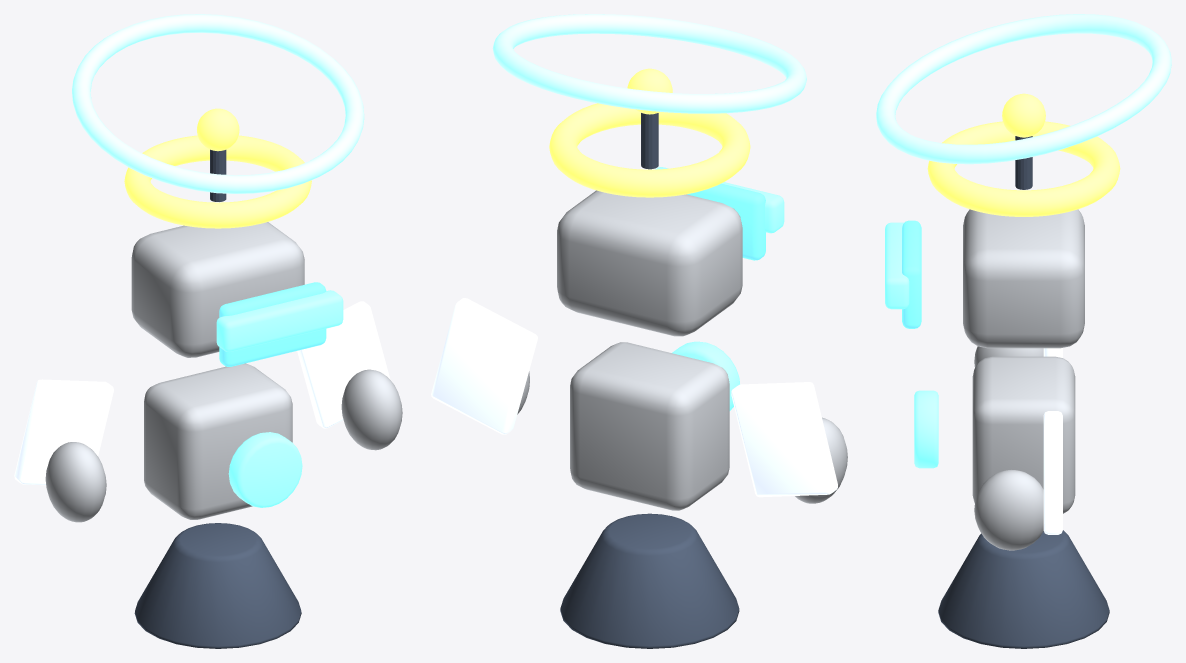
File: zen_robot.glb
3 renders of one model, left to right at view 1: azimuth 30°, elevation 25°; view 2: azimuth 150°, elevation 25°; view 3: azimuth 270°, elevation 25°, orthographic. The views are drawn at different scales.
Parts seen in each view (by area): view 1: Zen_Torso, Zen_Head, Zen_Thruster, Upgrade_halo_neural, Upgrade_ears_plasma, Upgrade_crown_radar, Upgrade_visor_cyber, Zen_ChestCore, Zen_Hand_R, Zen_Hand_L, Zen_Visor, Zen_AntennaOrb (+1 smaller); view 2: Zen_Torso, Zen_Head, Upgrade_ears_plasma, Zen_Thruster, Upgrade_halo_neural, Upgrade_crown_radar, Zen_Visor, Zen_ChestCore, Zen_Hand_L, Zen_AntennaStalk, Zen_AntennaOrb, Upgrade_visor_cyber; view 3: Zen_Head, Zen_Thruster, Upgrade_halo_neural, Zen_Torso, Upgrade_crown_radar, Zen_Hand_R, Upgrade_ears_plasma, Zen_ChestCore, Zen_Visor, Upgrade_visor_cyber, Zen_AntennaOrb, Zen_Hand_L (+1 smaller).
Part boxes in pixels (box(x1,y1,x2,y2)): Zen_Torso: box(144, 363, 292, 519); Zen_Head: box(131, 222, 304, 357); Zen_Thruster: box(134, 523, 301, 648); Upgrade_halo_neural: box(72, 14, 364, 193); Upgrade_ears_plasma: box(14, 301, 390, 485); Upgrade_crown_radar: box(124, 135, 311, 228); Upgrade_visor_cyber: box(216, 290, 343, 351); Zen_ChestCore: box(228, 432, 302, 507); Zen_Hand_R: box(341, 369, 402, 450); Zen_Hand_L: box(45, 442, 106, 522); Zen_Visor: box(219, 282, 326, 366); Zen_AntennaOrb: box(197, 108, 239, 151); Zen_Torso: box(570, 342, 729, 510); Zen_Head: box(557, 190, 742, 336); Upgrade_ears_plasma: box(431, 298, 837, 497); Zen_Thruster: box(560, 513, 739, 648); Upgrade_halo_neural: box(492, 14, 806, 113); Upgrade_crown_radar: box(549, 103, 750, 197); Zen_Visor: box(687, 183, 765, 260); Zen_ChestCore: box(672, 341, 739, 410); Zen_Hand_L: box(795, 417, 847, 503); Zen_AntennaStalk: box(641, 113, 658, 169); Zen_AntennaOrb: box(627, 68, 672, 114); Upgrade_visor_cyber: box(655, 167, 784, 233); Zen_Head: box(963, 209, 1084, 348); Zen_Thruster: box(938, 530, 1109, 648); Upgrade_halo_neural: box(876, 14, 1171, 164); Zen_Torso: box(972, 356, 1075, 513); Upgrade_crown_radar: box(927, 121, 1120, 216); Zen_Hand_R: box(974, 470, 1043, 550); Upgrade_ears_plasma: box(1043, 348, 1062, 534); Zen_ChestCore: box(914, 390, 938, 468); Zen_Visor: box(902, 220, 921, 328); Upgrade_visor_cyber: box(885, 222, 909, 309); Zen_AntennaOrb: box(1002, 93, 1045, 137); Zen_Hand_L: box(974, 346, 1043, 367).
Bounding box in the file's own units: 1.82 × 2.53 × 1.21.
